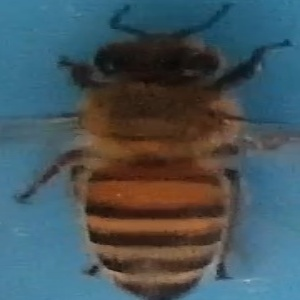bee: (27, 4, 292, 297)
